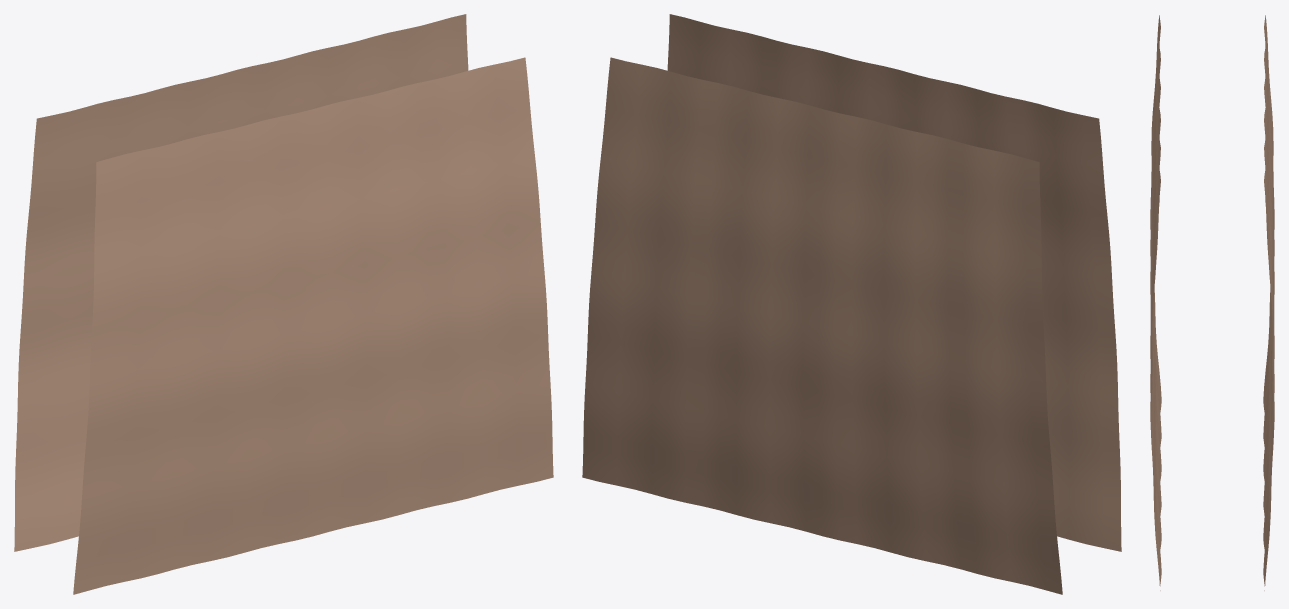
File: clean.glb
3 renders of one model, left to right at view 1: azimuth 30°, elevation 25°; view 2: azimuth 150°, elevation 25°; view 3: azimuth 270°, elevation 25°, orthographic. The views are drawn at different scales.
Visible parts, largest first — view 1: clean:manual-skirt-02.front, clean:manual-skirt-02.back; view 2: clean:manual-skirt-02.back, clean:manual-skirt-02.front; view 3: clean:manual-skirt-02.front, clean:manual-skirt-02.back.
Boxes of the visible parts, bbox=[...] form: clean:manual-skirt-02.front: bbox=[73, 57, 553, 594]; clean:manual-skirt-02.back: bbox=[14, 14, 468, 551]; clean:manual-skirt-02.back: bbox=[582, 57, 1062, 594]; clean:manual-skirt-02.front: bbox=[667, 14, 1121, 551]; clean:manual-skirt-02.front: bbox=[1150, 15, 1161, 590]; clean:manual-skirt-02.back: bbox=[1263, 15, 1274, 590].
Size of the model in its own units: 1 by 0.85 by 0.251.
